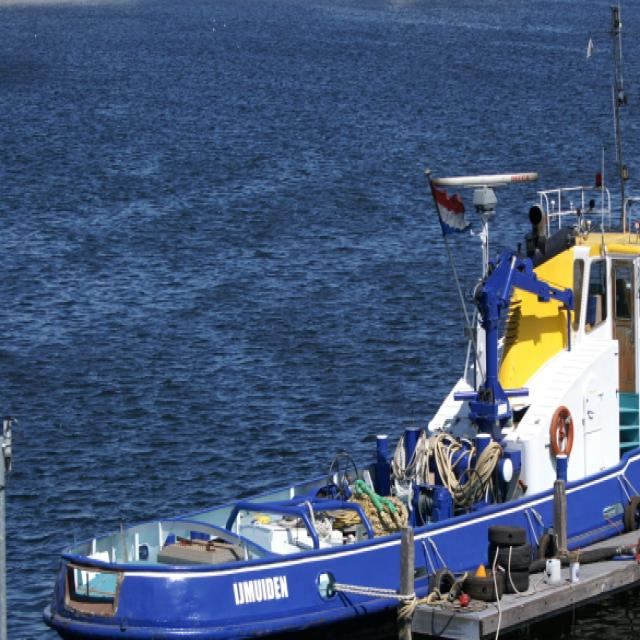tugboat: (37, 166, 640, 640)
